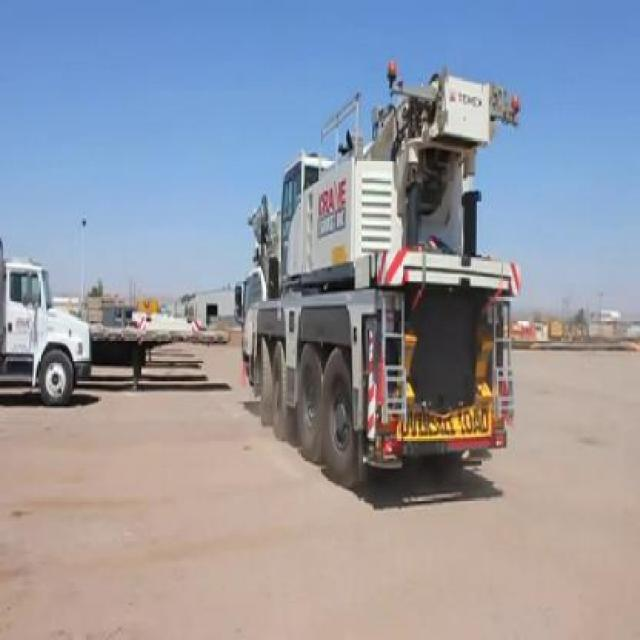Mobile Crane: (243, 75, 506, 492)
